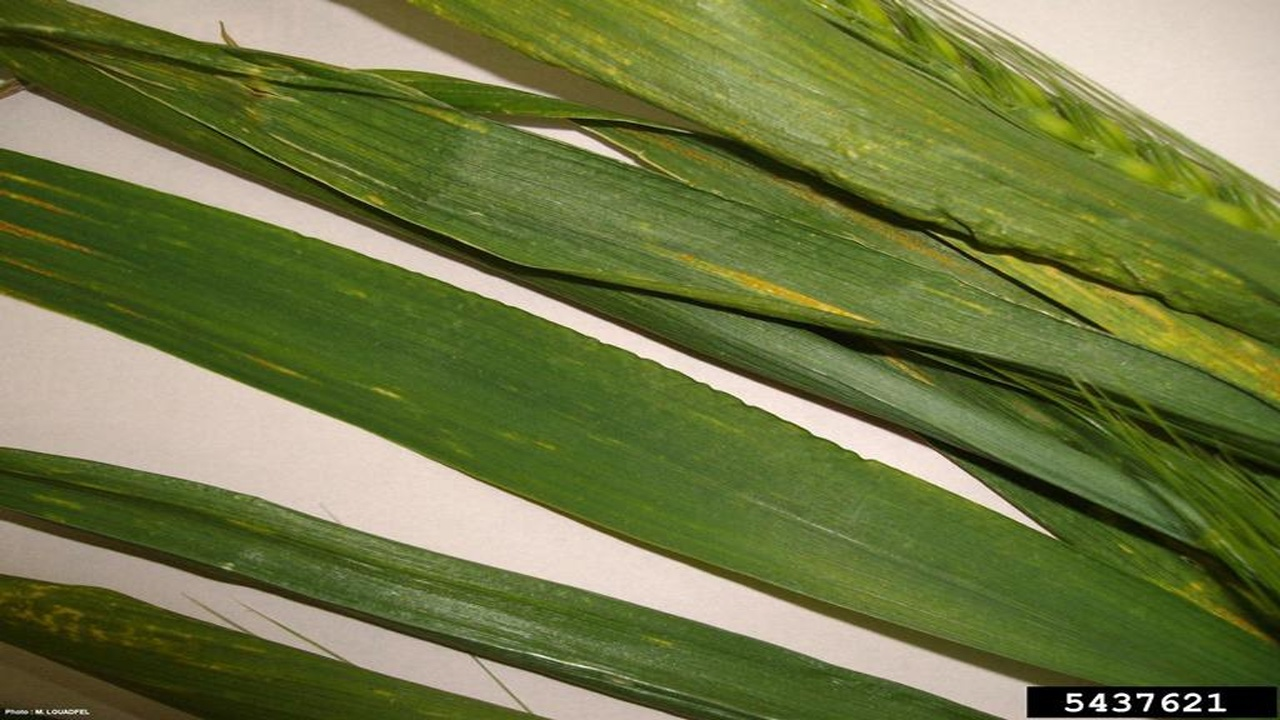stripe_rust: (56, 24, 1102, 472)
